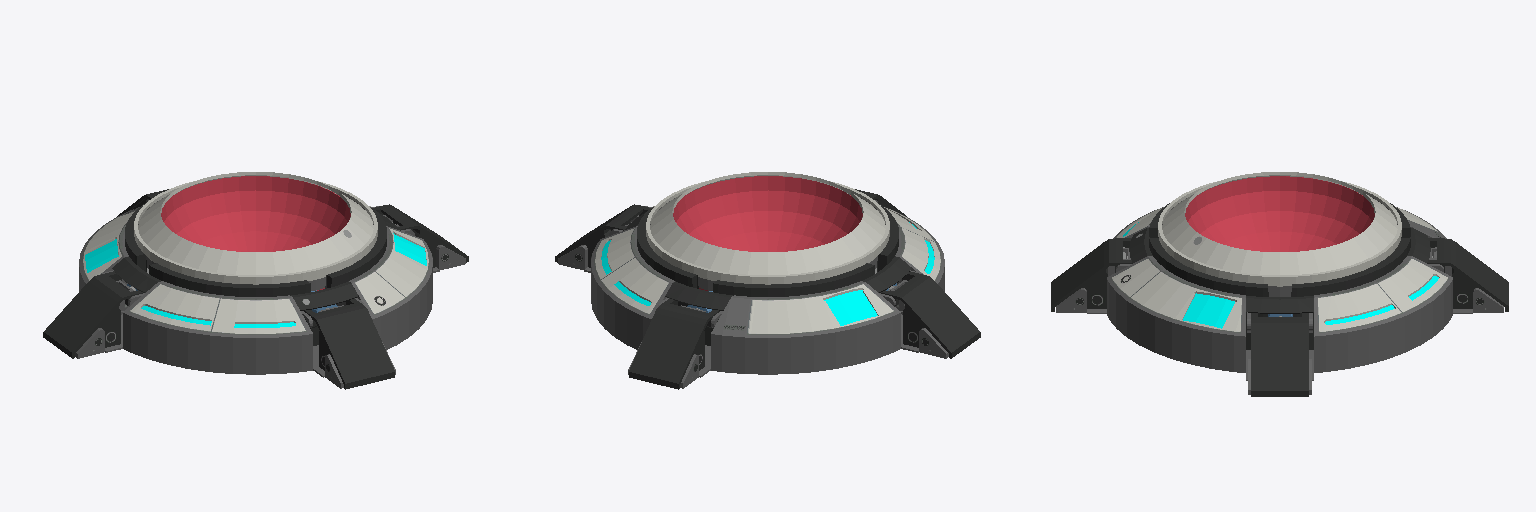
The picture shows the model from 3 angles: view 1: azimuth 30°, elevation 25°; view 2: azimuth 150°, elevation 25°; view 3: azimuth 270°, elevation 25°; orthographic projection.
Parts seen in each view (by area): view 1: Body.dmx/ball_socket_model.dmx.mesh_0; view 2: Body.dmx/ball_socket_model.dmx.mesh_0; view 3: Body.dmx/ball_socket_model.dmx.mesh_0.
Part boxes in pixels (x1,y1,x2,y2): Body.dmx/ball_socket_model.dmx.mesh_0: (43, 172, 468, 389); Body.dmx/ball_socket_model.dmx.mesh_0: (555, 172, 980, 389); Body.dmx/ball_socket_model.dmx.mesh_0: (1051, 172, 1508, 396).
Size of the model in its own units: 110 by 23.31 by 110.
1 materials, 1 textured.